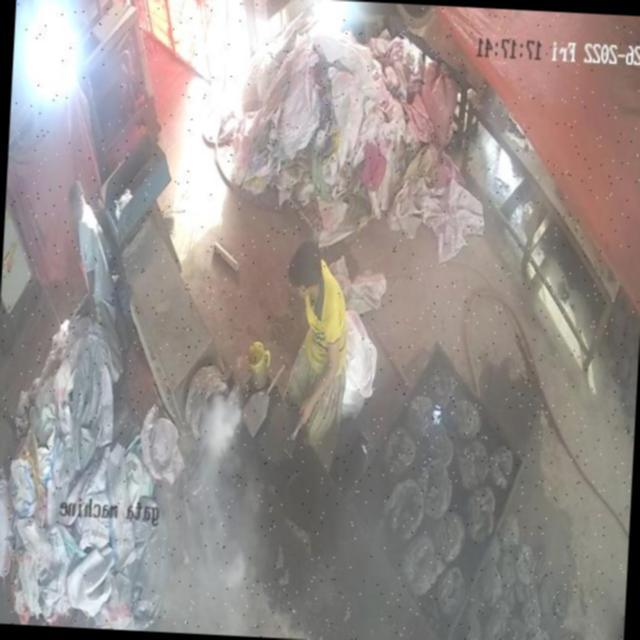person: (59, 183, 132, 396), (283, 236, 348, 458)
